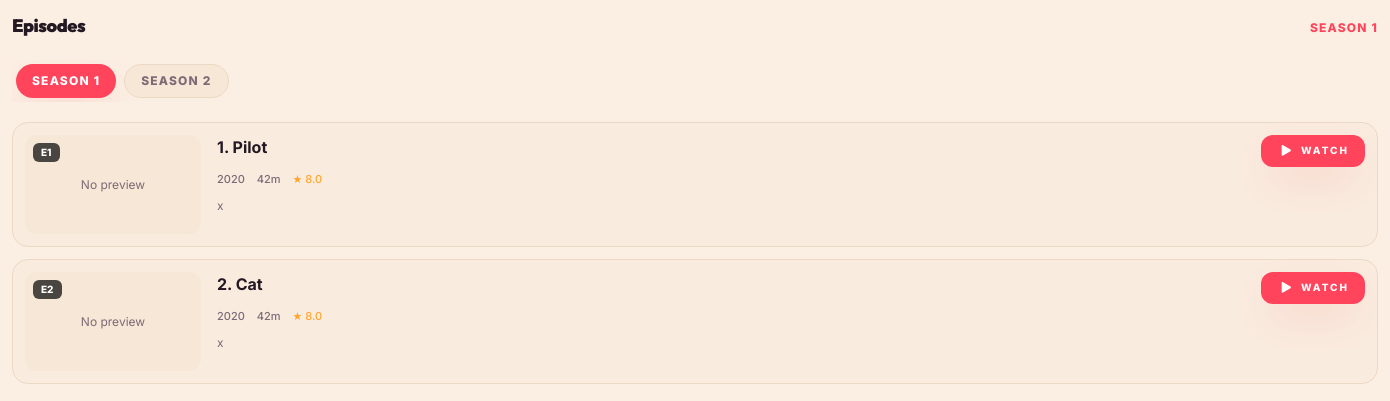
Scenario: TvEpisodes selector › loads the first season and updates when a new season is selected
Check: the heading "1. Pilot" is shown, box [217,135,267,159]
Check: the heading "2. Cat" is shown, box [217,272,263,296]
Click the tab "Season 2".
click(176, 81)  # box [124,64,229,98]
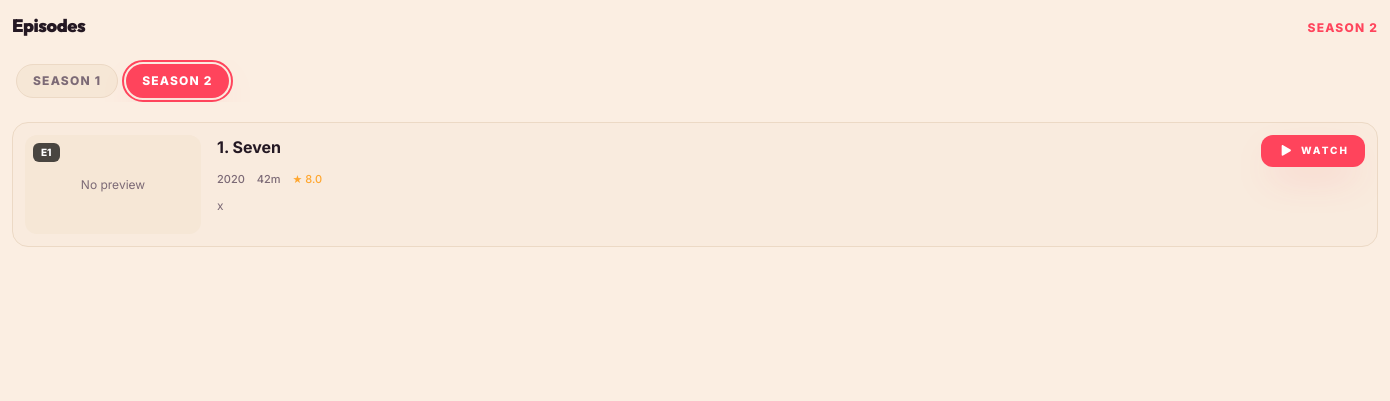
Check: the heading "1. Seven" is shown, box [217,135,281,159]
Check: the heading "1. Pilot" is gone
